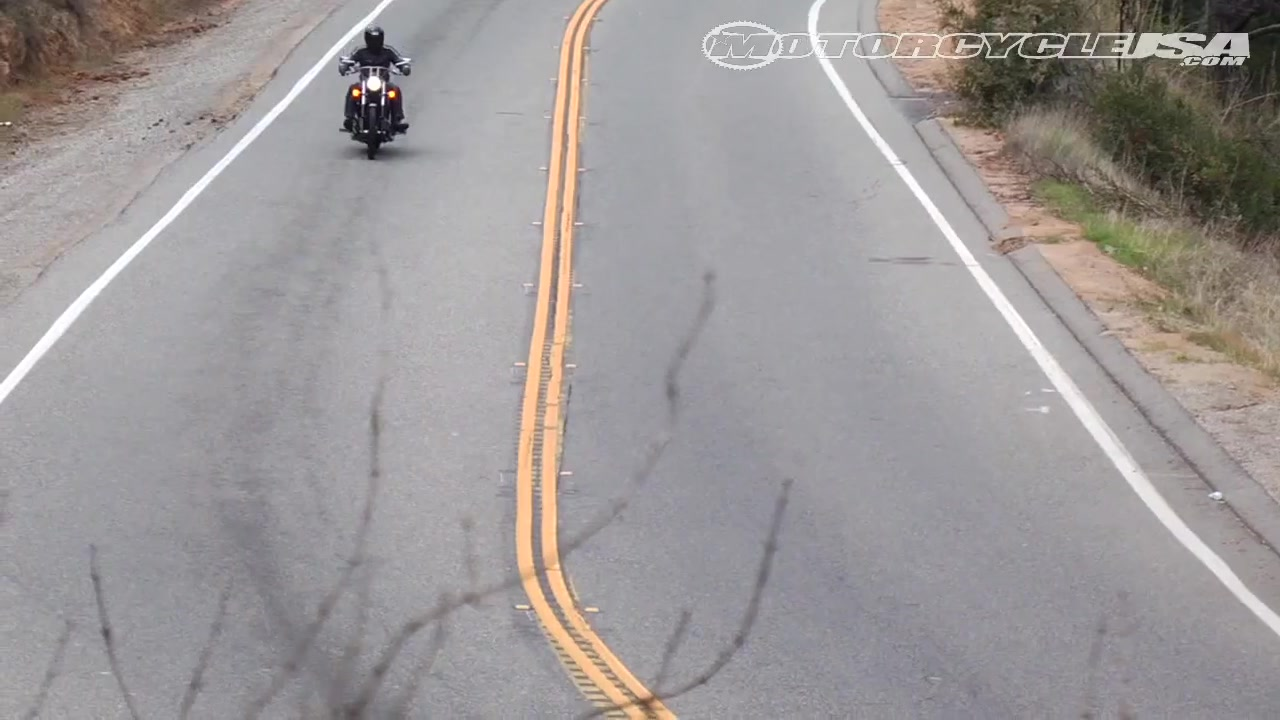motorbike: (337, 56, 414, 159)
